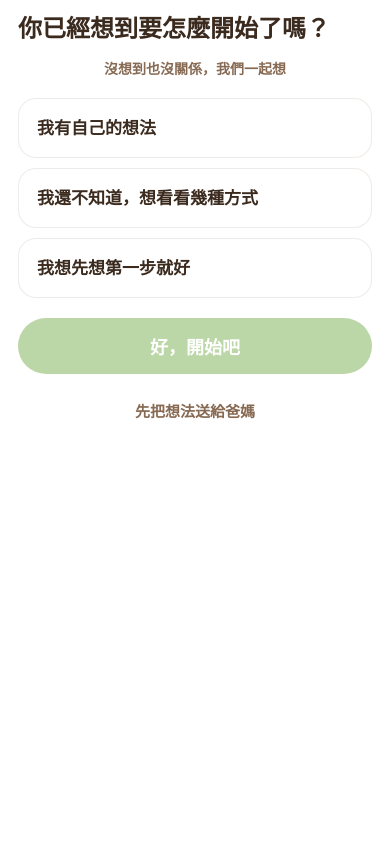
Test: Case 1｜孩子已有完整方法 → ready → 確認 → 送出正式版本 › 預覽只給孩子需要決定的那幾件事
Click the radio button with test id "planning-opening-has_own_idea" at (195, 128), box [18,98,372,158]
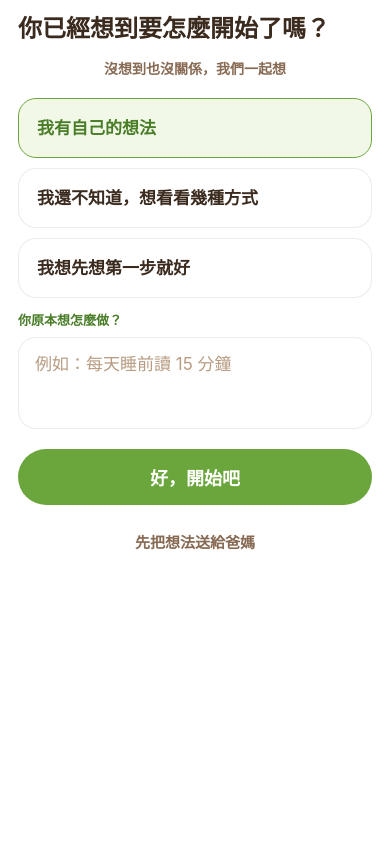
Type "平日睡前讀 15 分鐘" into the text box with test id "planning-approach-input" at (195, 383), box [18,337,372,429]
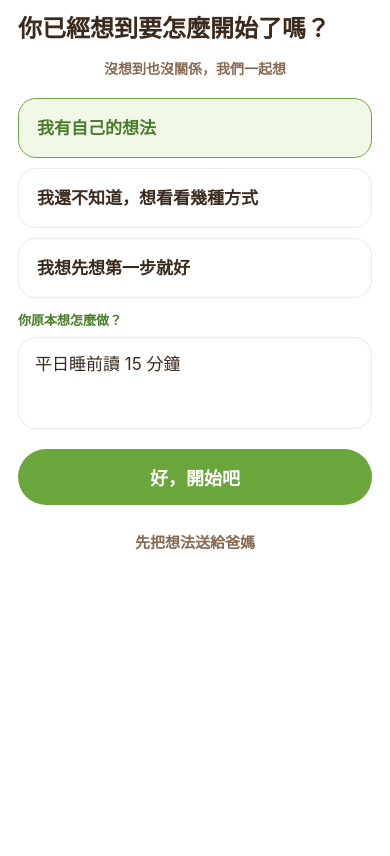
Click the button with test id "planning-opening-next" at (195, 477), box [18,449,372,505]
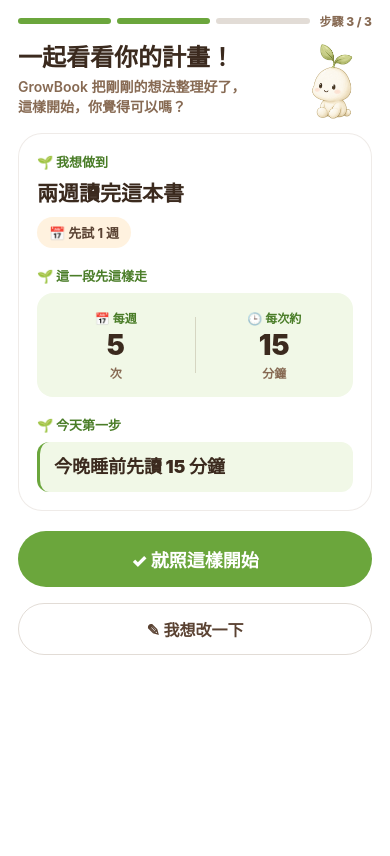
Check: the element with test id "planning-ready-plan" is shown, box [18,133,372,511]
Check: the text "兩週讀完這本書" is shown, box [37,181,184,206]
Check: the text "今晚睡前先讀 15 分鐘" is shown, box [54,456,225,477]
